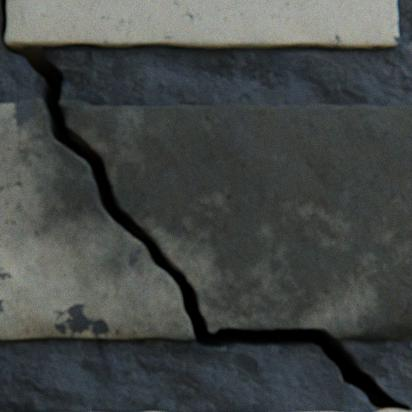brick: (5, 0, 397, 49), (380, 410, 411, 411)
broken_brick: (59, 101, 411, 338), (0, 99, 194, 339)
crack: (0, 0, 411, 411)
